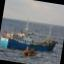fishing boat: (0, 11, 61, 57)
